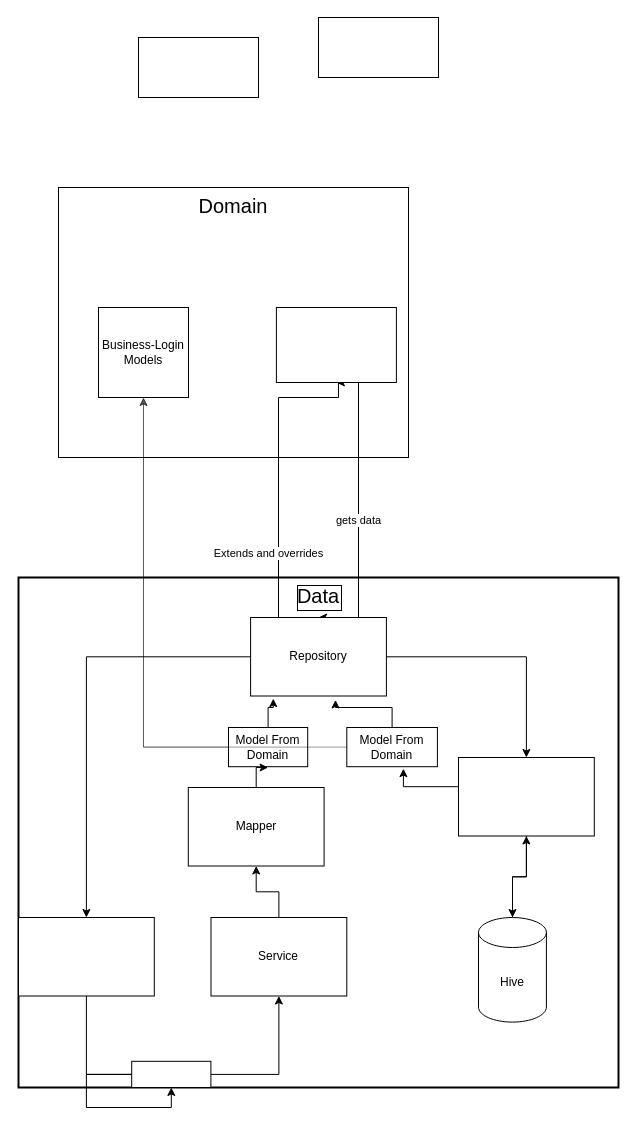
This 636x1133 diagram has some shape labels left out. The centre of each missing label's shape, as x and y in pixels:
Dio: the point at 171,1074
Local: the point at 526,796
Repository Classes: the point at 335,344
RequestBody: the point at 86,956
